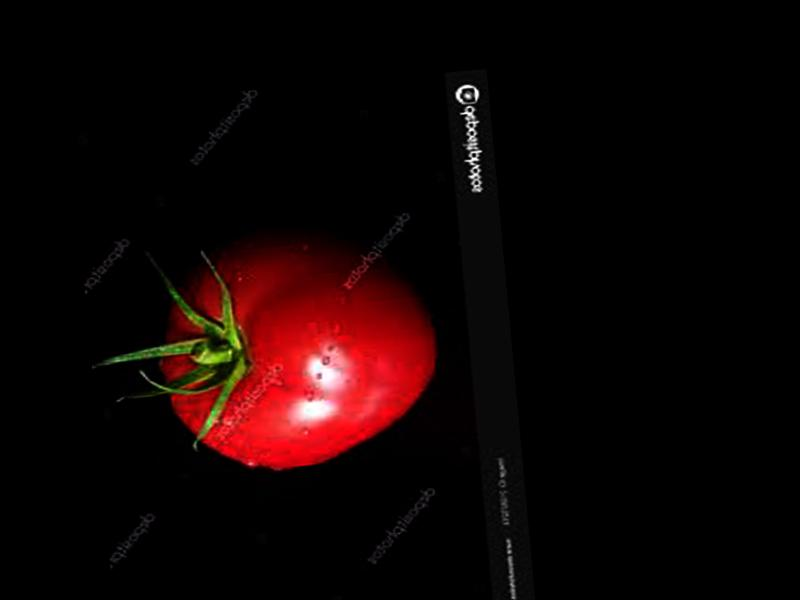Tomato: (149, 215, 446, 480)
